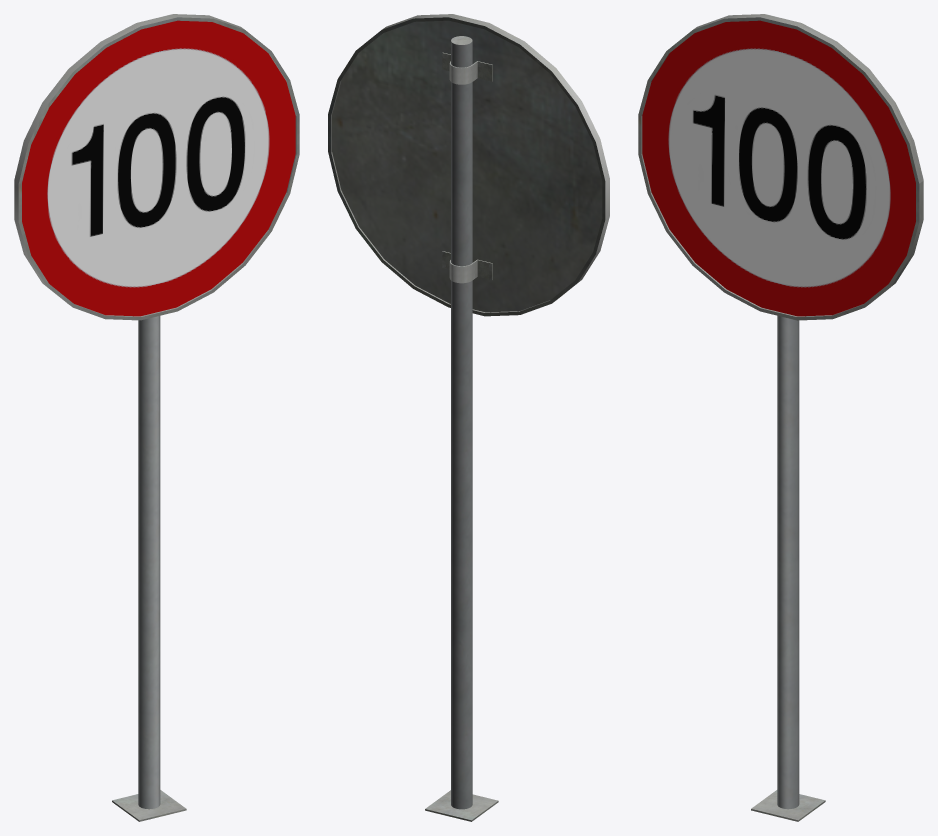
3 renders of one model, left to right at view 1: azimuth 30°, elevation 25°; view 2: azimuth 150°, elevation 25°; view 3: azimuth 330°, elevation 25°, orthographic.
Visible parts, largest first — view 1: MainBuilding; view 2: MainBuilding; view 3: MainBuilding.
Part boxes in pixels (x1,y1,x2,y2): MainBuilding: (14,14,299,821); MainBuilding: (328,14,609,821); MainBuilding: (638,14,923,821).
Size of the model in its own units: 0.8923 by 2.4 by 0.15.
Materials: 1 (1 with a texture image).
